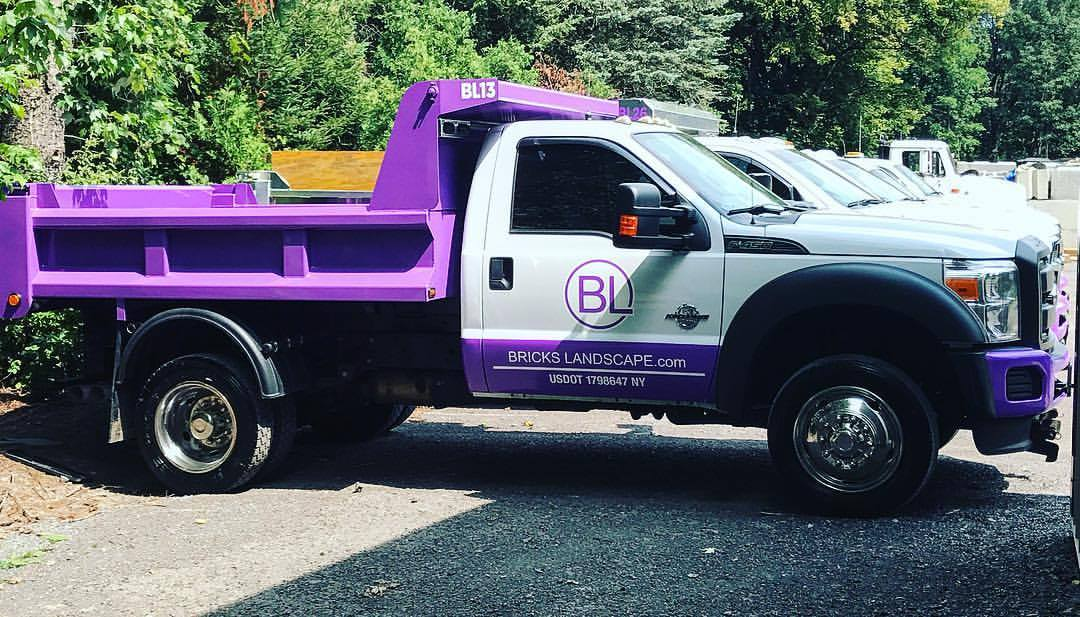Vehicle: (6, 80, 1069, 510)
